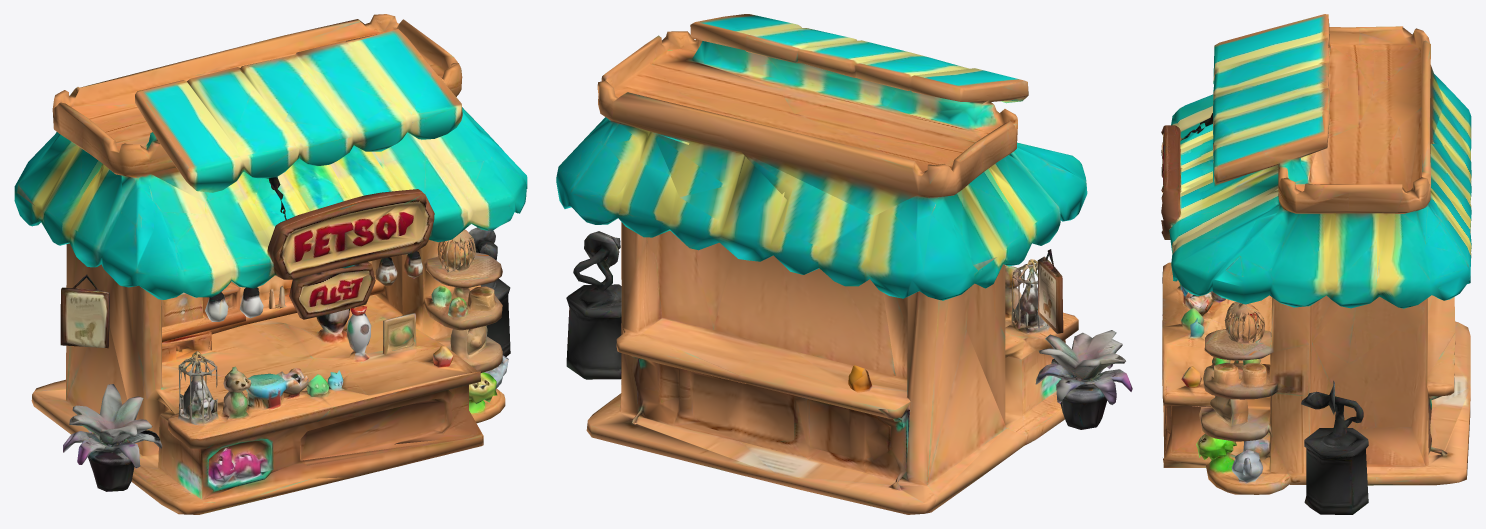
File: shop.glb
3 views of the same model, side by side, from view 1: azimuth 30°, elevation 25°; view 2: azimuth 150°, elevation 25°; view 3: azimuth 270°, elevation 25° (orthographic). The views are drawn at different scales.
Size of the model in its own units: 1.9 by 1.34 by 1.12.
Materials: 1 (1 with a texture image).
